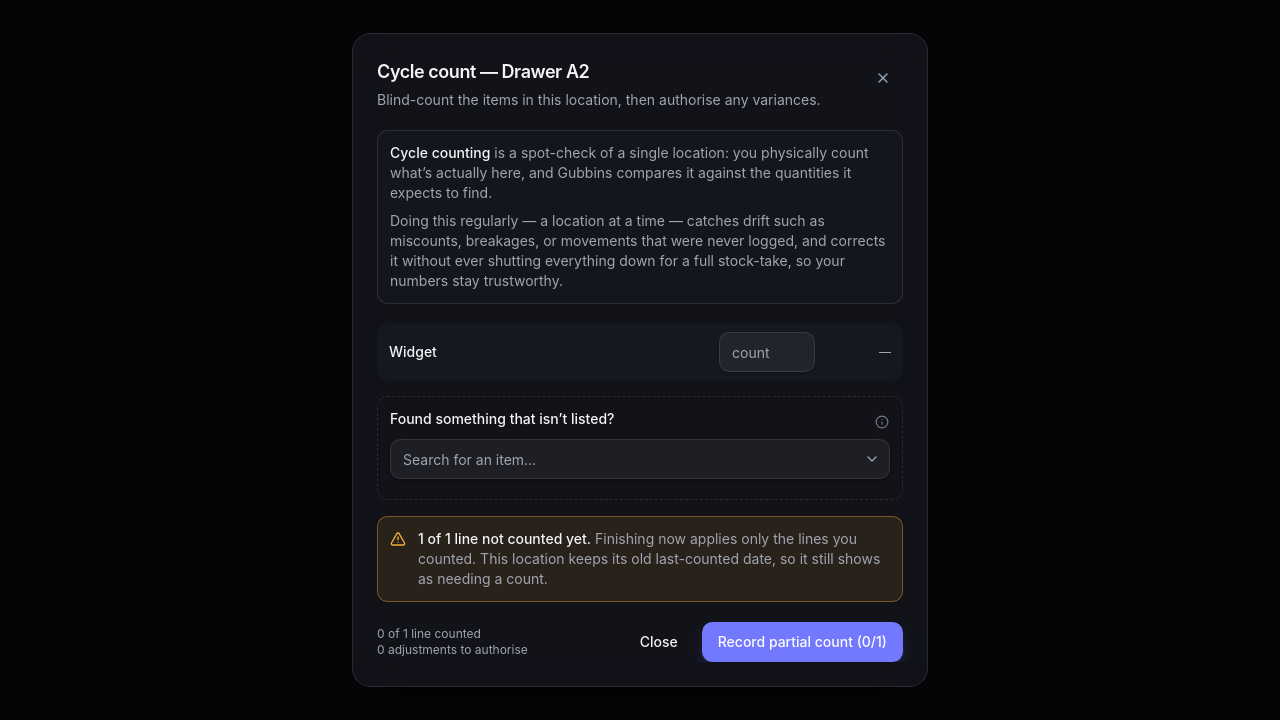
CycleCountDialog — aria-live reconciliation result (WCAG 4.1.3, Phase 63) › uses singular "adjustment" when exactly 1 item was reconciled
Type "8" into the number field with placeholder "count" at (767, 352), box top-left (719, 332), bottom-right (815, 372)
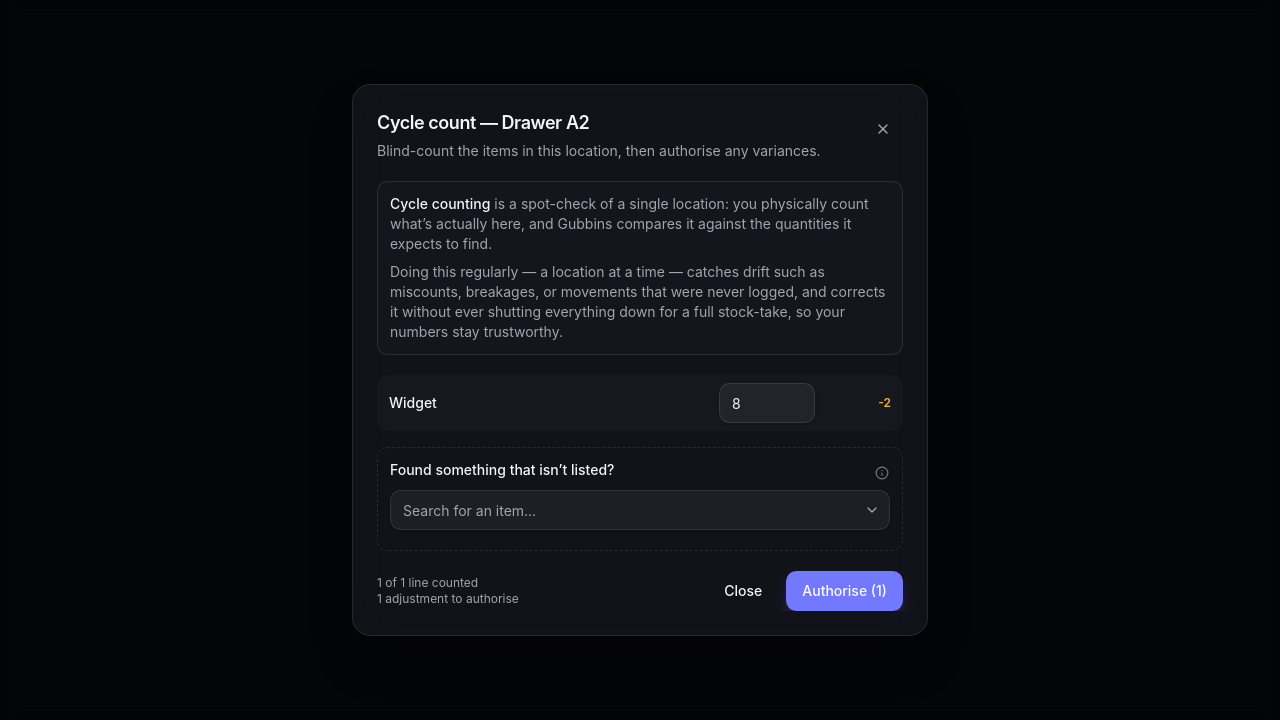
Click the button with test id "authorise-reconciliation" at (845, 591), box top-left (786, 571), bottom-right (903, 611)
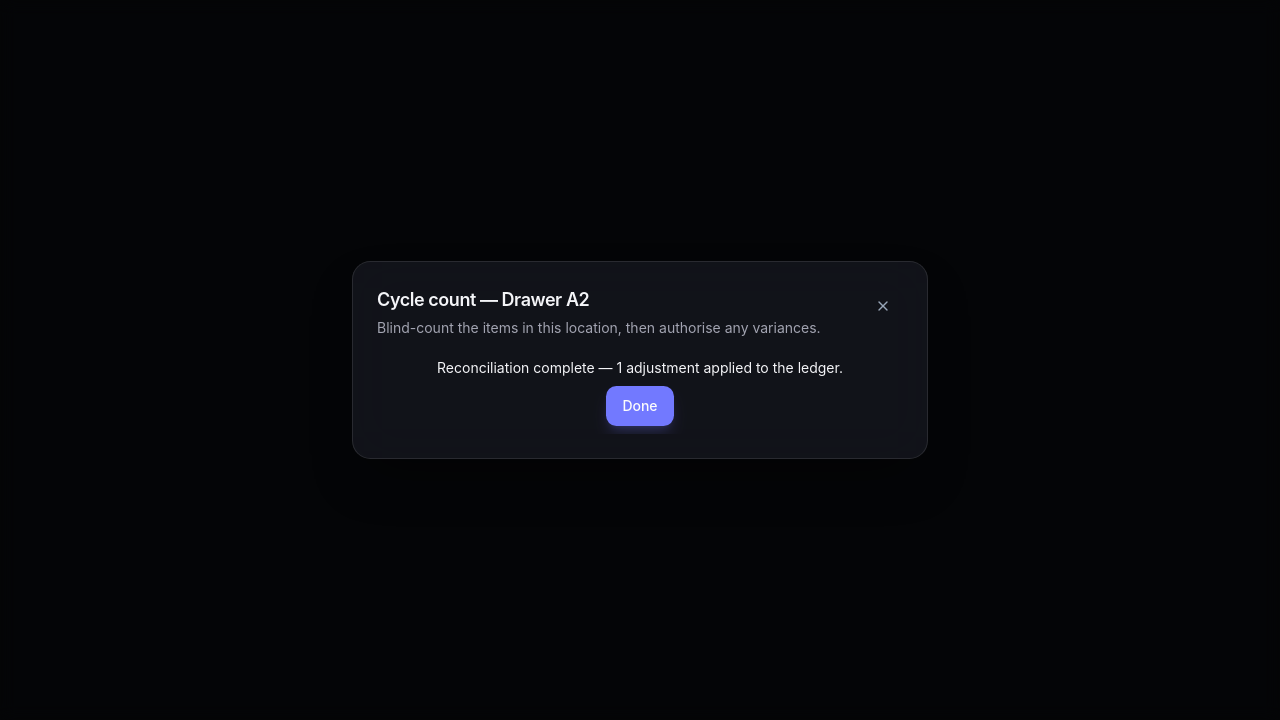
Now the message with test id "cycle-count-result" shows "1 adjustment applied", box top-left (437, 359), bottom-right (843, 376)
